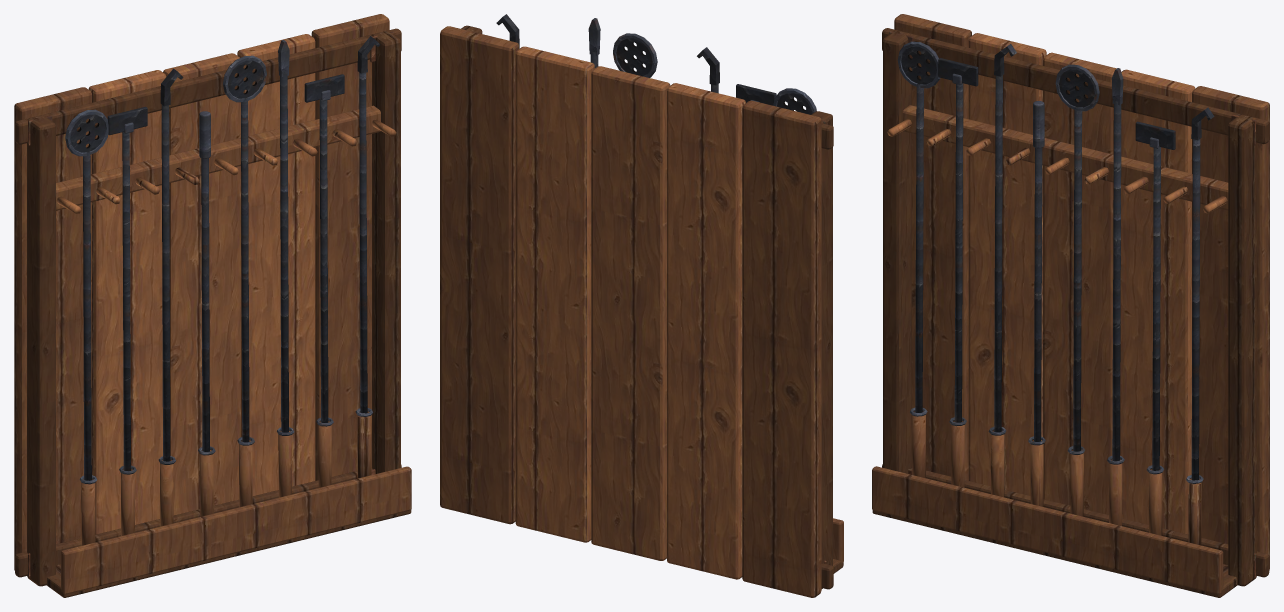
File: cf_skimmer_rack.glb
3 renders of one model, left to right at view 1: azimuth 30°, elevation 25°; view 2: azimuth 150°, elevation 25°; view 3: azimuth 330°, elevation 25°, orthographic.
Visible parts, largest first — view 1: model; view 2: model; view 3: model.
Boxes of the visible parts, x1,y1,x2,y2 form: model: (14, 14, 411, 597); model: (440, 14, 843, 597); model: (872, 14, 1269, 597).
Bounding box in the file's own units: 1.29 × 1.58 × 0.2375.
Materials: 9 (8 with a texture image).
